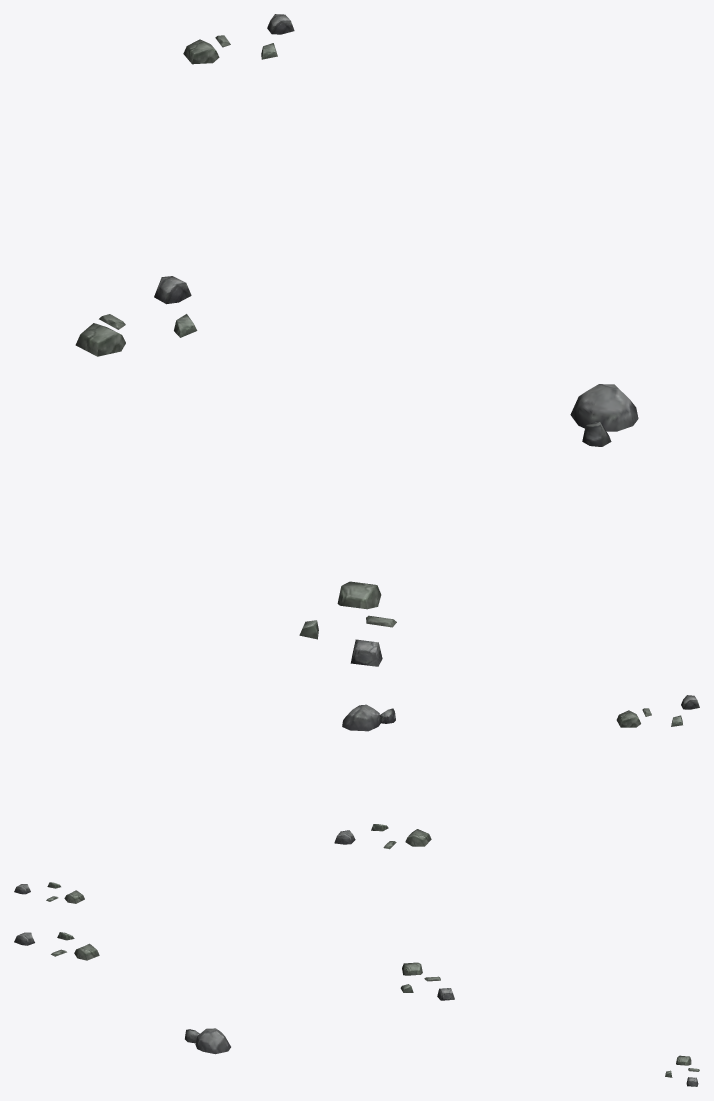
File: Area_13_56.fbx
3 views of the same model, one above another, from view 1: azimuth 30°, elevation 25°; view 2: azimuth 150°, elevation 25°; view 3: azimuth 270°, elevation 25° (orthographic). The views are drawn at different scales.
Visible parts, largest first — view 1: Area_13_56; view 2: Area_13_56; view 3: Area_13_56.
Part boxes in pixels (x1,y1,x2,y2): Area_13_56: (75, 14, 638, 666); Area_13_56: (14, 695, 699, 903); Area_13_56: (14, 932, 699, 1086).
Bounding box in the file's own units: 1614 × 88.16 × 3096.
